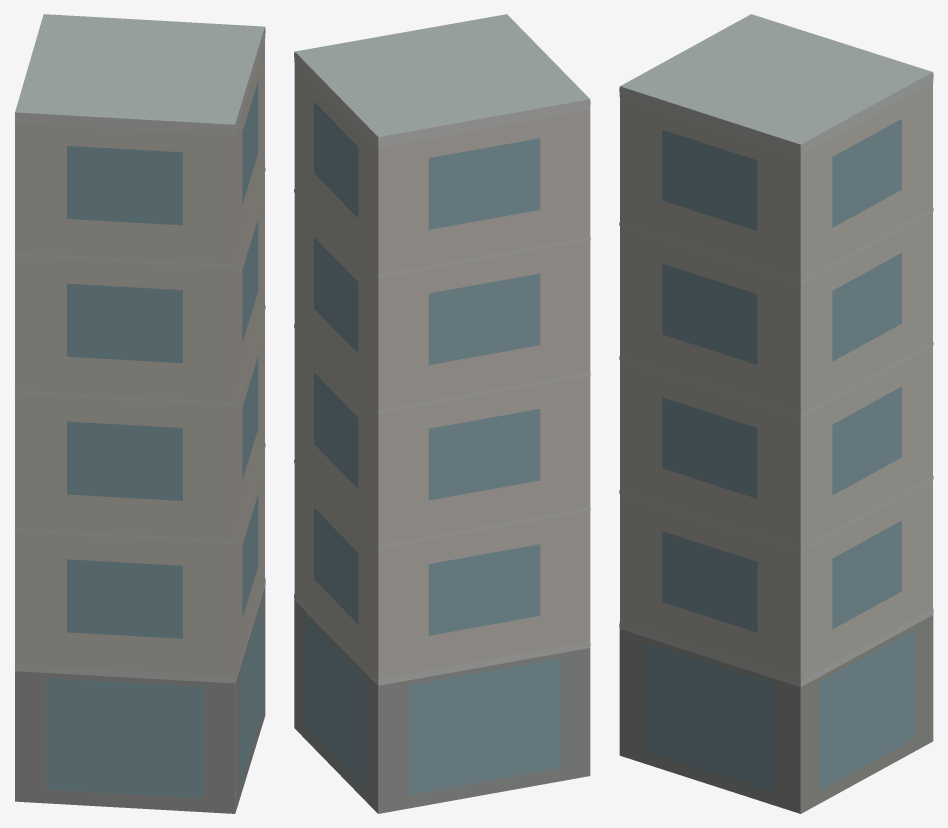
File: survey-upis-32708589.glb
The picture shows the model from 3 angles, left to right: view 1: azimuth 30°, elevation 25°; view 2: azimuth 150°, elevation 25°; view 3: azimuth 270°, elevation 25°; orthographic projection. The views are drawn at different scales.
Parts seen in each view (by area): view 1: survey-upis-32708589.tmp; view 2: survey-upis-32708589.tmp; view 3: survey-upis-32708589.tmp.
Part boxes in pixels (x1,y1,x2,y2): survey-upis-32708589.tmp: (15,14,265,813); survey-upis-32708589.tmp: (294,14,590,813); survey-upis-32708589.tmp: (619,14,933,813).
Bounding box in the file's own units: 6.4 × 15.25 × 6.49.
